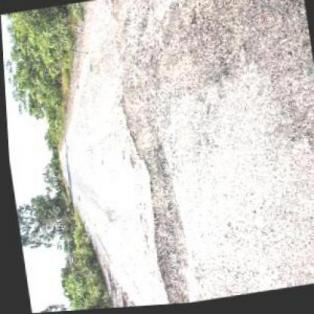Hueco: (141, 168, 192, 306), (114, 81, 166, 165)
